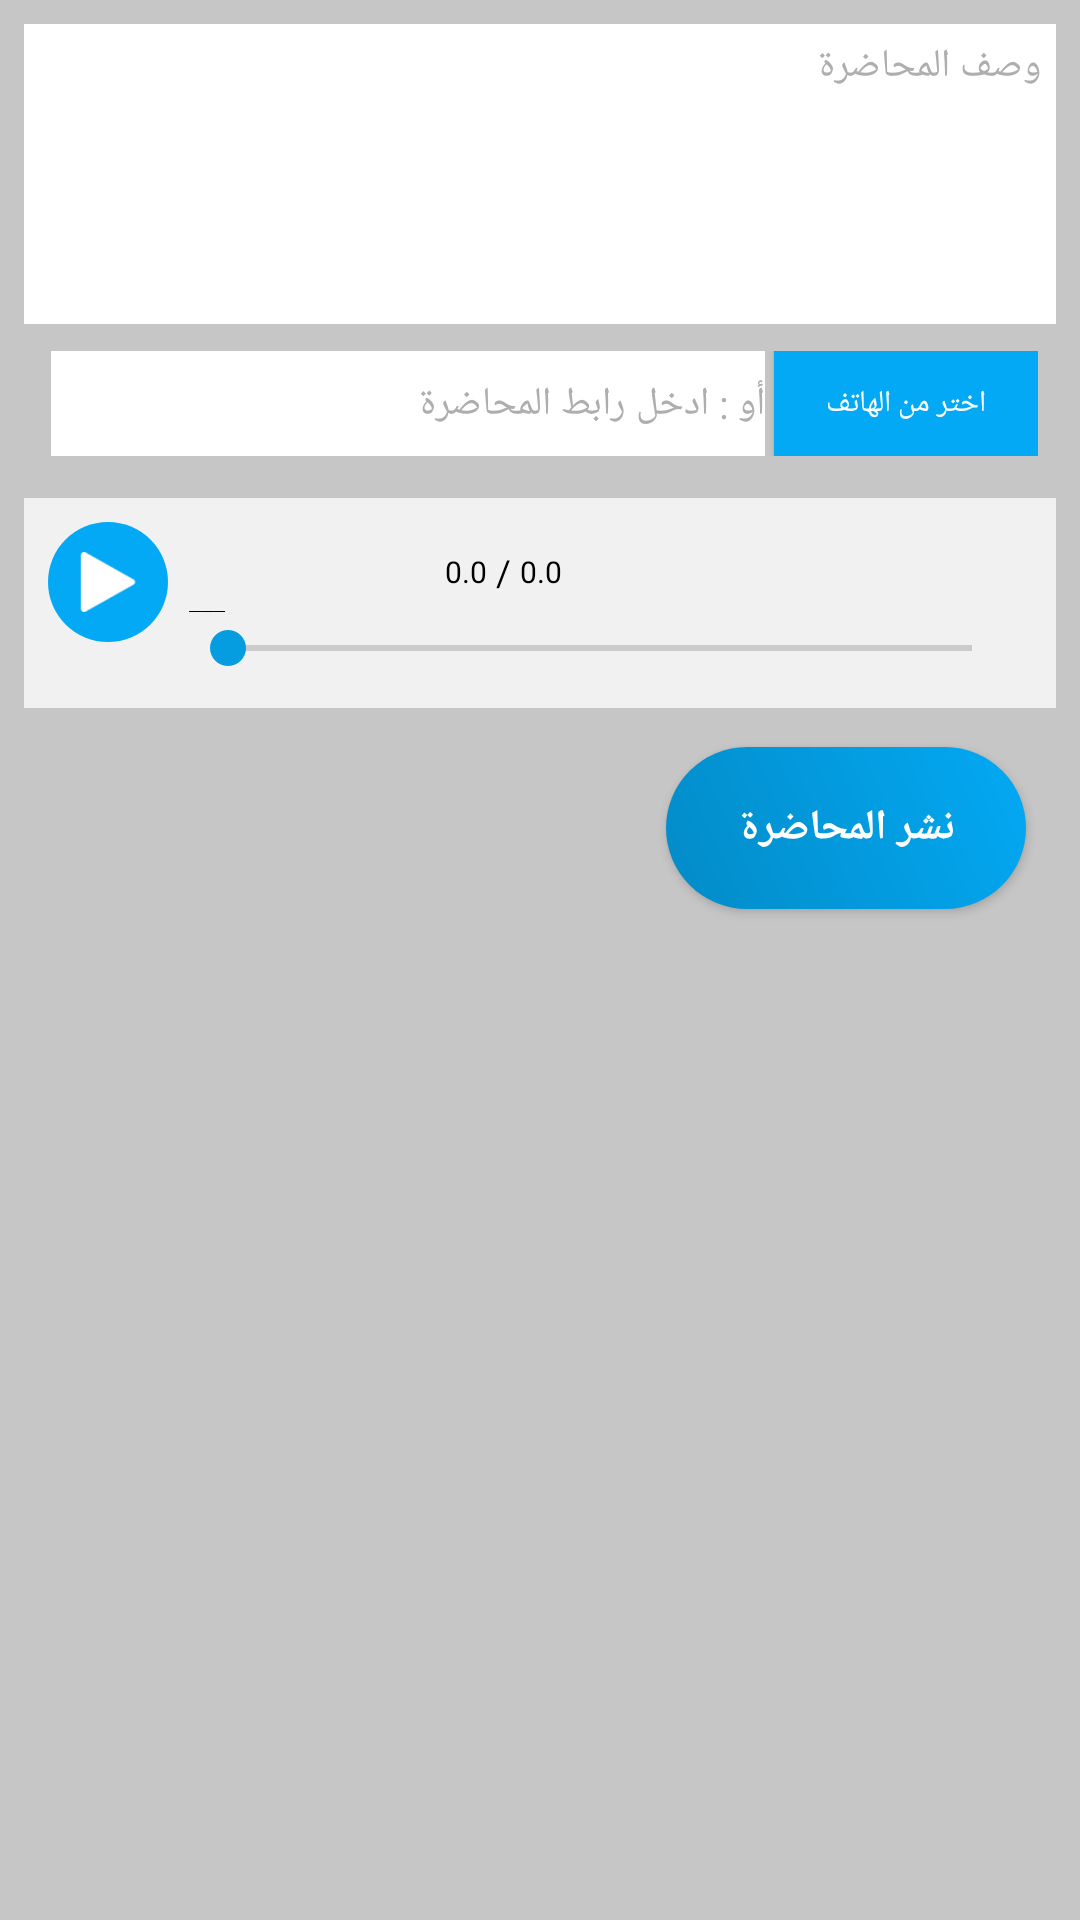

Point at icon controls on the screen. Image size 1080px×1920px, points as [x,y].
play audio: [108,582]
